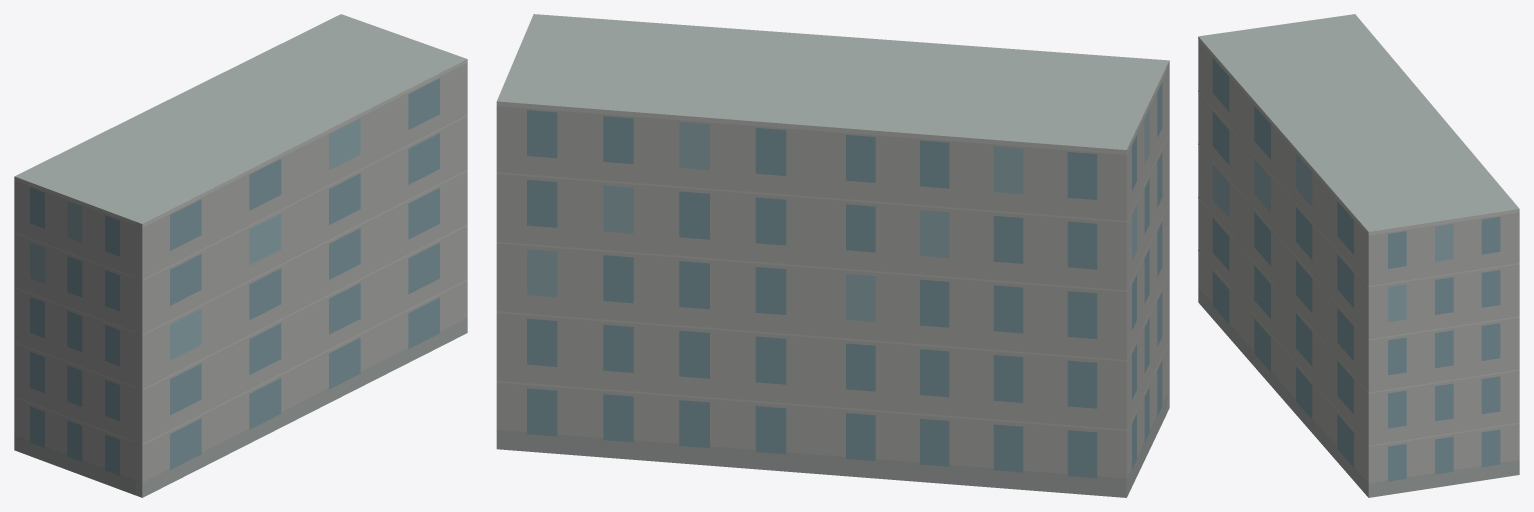
Rendered from survey-upis-33007732.glb.
The picture shows the model from 3 angles, left to right: view 1: azimuth 30°, elevation 25°; view 2: azimuth 150°, elevation 25°; view 3: azimuth 270°, elevation 25°; orthographic projection. The views are drawn at different scales.
Parts seen in each view (by area): view 1: survey-upis-33007732.tmp; view 2: survey-upis-33007732.tmp; view 3: survey-upis-33007732.tmp.
Part boxes in pixels (x1,y1,x2,y2): survey-upis-33007732.tmp: (14,14,467,497); survey-upis-33007732.tmp: (496,14,1169,497); survey-upis-33007732.tmp: (1198,14,1519,497).
Size of the model in its own units: 31.76 by 18.05 by 19.8.
